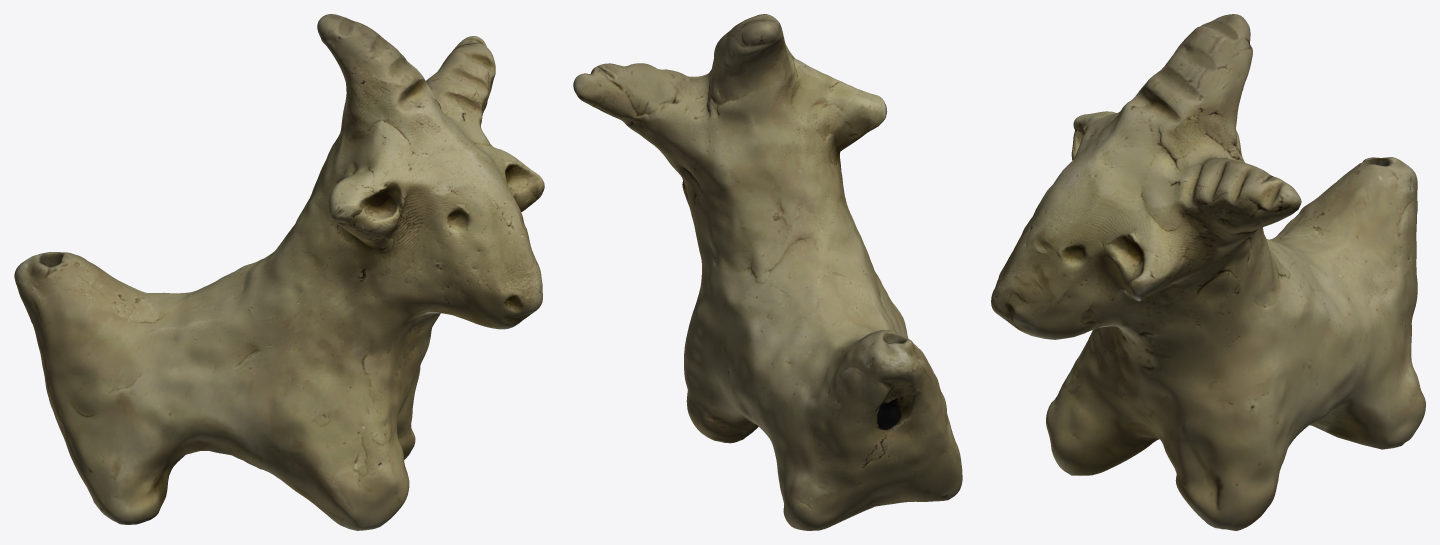
3 renders of one model, left to right at view 1: azimuth 30°, elevation 25°; view 2: azimuth 150°, elevation 25°; view 3: azimuth 270°, elevation 25°, orthographic. The views are drawn at different scales.
Size of the model in its own units: 0.8383 by 0.8933 by 0.7153.
1 material, 1 textured.
